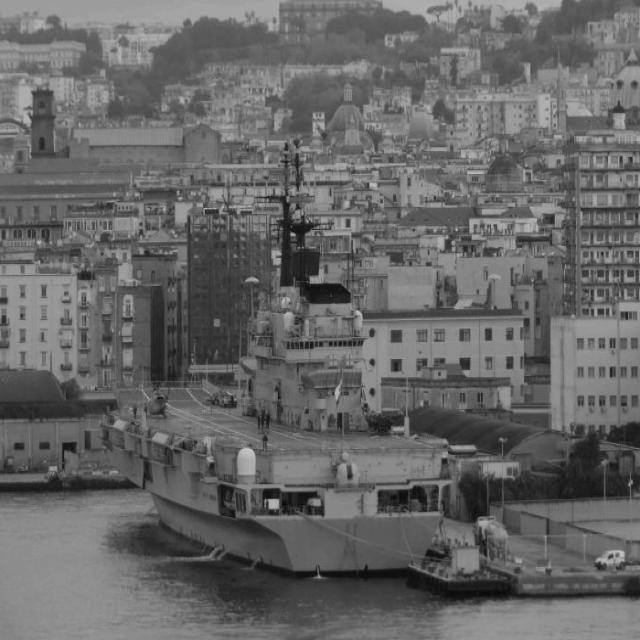Portanaves: (102, 124, 455, 582)
